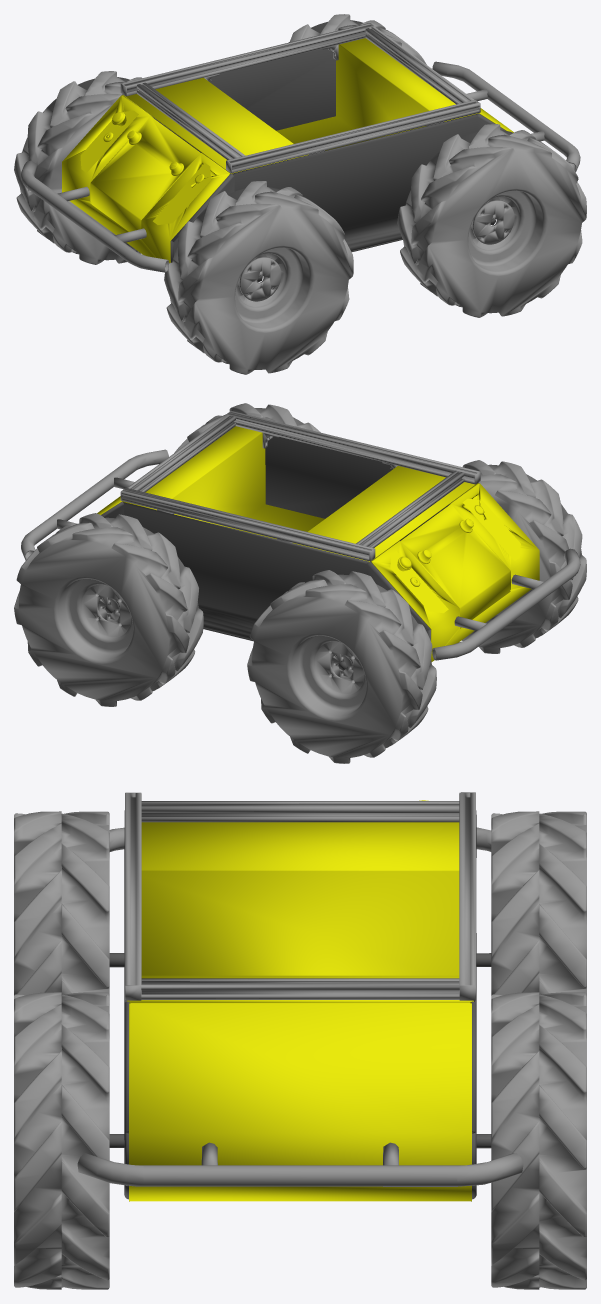
File: husky.glb
3 renders of one model, top to bottom at view 1: azimuth 30°, elevation 25°; view 2: azimuth 150°, elevation 25°; view 3: azimuth 270°, elevation 25°, orthographic. The views are drawn at different scales.
Parts seen in each view (by area): view 1: top_plate_link, front_right_wheel, rear_right_wheel, base_link, user_rail_link, rear_left_wheel, rear_bumper_link, front_bumper_link, front_left_wheel; view 2: top_plate_link, rear_left_wheel, front_left_wheel, base_link, user_rail_link, rear_right_wheel, rear_bumper_link, front_bumper_link, front_right_wheel; view 3: top_plate_link, front_right_wheel, front_left_wheel, user_rail_link, rear_left_wheel, rear_right_wheel, front_bumper_link, base_link, rear_bumper_link.
Part boxes in pixels (x1,y1,x2,y2): top_plate_link: (62,38,513,262); front_right_wheel: (397,124,586,317); rear_right_wheel: (164,181,353,374); base_link: (121,48,505,282); user_rail_link: (120,23,480,173); rear_left_wheel: (14,71,142,264); rear_bumper_link: (21,160,169,272); front_bumper_link: (432,61,580,171); front_left_wheel: (289,14,426,64); top_plate_link: (97,426,539,661); rear_left_wheel: (247,570,436,763); front_left_wheel: (14,513,203,706); base_link: (101,436,479,670); user_rail_link: (120,411,480,561); rear_right_wheel: (462,460,586,653); rear_bumper_link: (432,548,580,660); front_bumper_link: (21,449,168,560); front_right_wheel: (174,403,320,452); top_plate_link: (127,800,473,1201); front_right_wheel: (14,992,109,1289); front_left_wheel: (491,992,586,1289); user_rail_link: (125,792,475,1000); rear_left_wheel: (491,811,586,995); rear_right_wheel: (14,811,109,995); front_bumper_link: (77,1142,523,1186); base_link: (109,810,491,1201); rear_bumper_link: (109,827,491,851).
Size of the model in its own units: 98.65 by 39.09 by 68.52.
